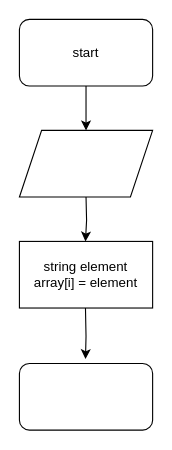
This 172x450 diagram has some shape labels left out. Each missing label, with the centre of its shape:
end: [85,396]
string[] array[size]: [85,163]
